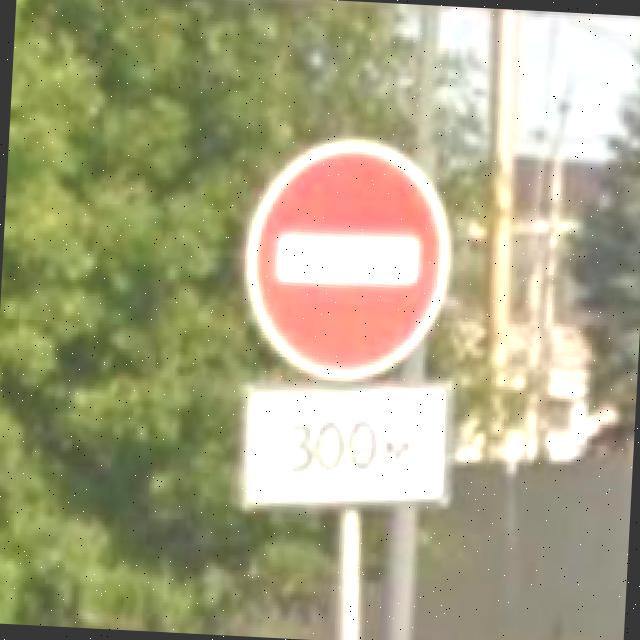Zakaz wjazdu: (239, 134, 456, 386)
